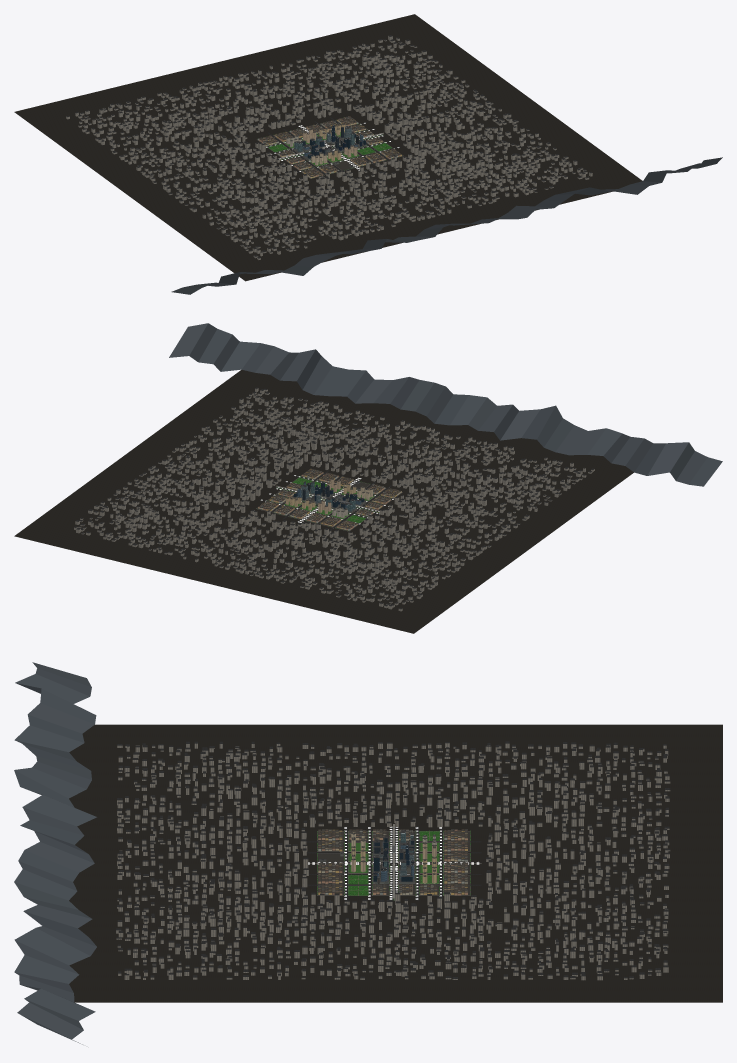
Rendered from aether-city.glb.
3 views of the same model, one above another, from view 1: azimuth 30°, elevation 25°; view 2: azimuth 150°, elevation 25°; view 3: azimuth 270°, elevation 25° (orthographic). The views are drawn at different scales.
Visible parts, largest first — view 1: city_ground, city_far, city_roof, city_hills, city_lowrise, city_resi, city_asphalt, city_foliage, city_office, city_glass; view 2: city_ground, city_far, city_hills, city_roof, city_lowrise, city_resi, city_foliage, city_asphalt, city_office; view 3: city_ground, city_far, city_roof, city_hills, city_asphalt, city_foliage, city_lowrise, fx_lightpool, city_resi, city_office.
Part boxes in pixels (x1,y1,x2,y2): city_ground: [14, 14, 642, 281]; city_far: [66, 36, 592, 259]; city_roof: [66, 35, 592, 258]; city_hills: [171, 157, 722, 294]; city_lowrise: [258, 116, 401, 178]; city_resi: [286, 124, 357, 165]; city_asphalt: [265, 117, 400, 175]; city_foliage: [265, 117, 399, 176]; city_office: [293, 126, 366, 167]; city_glass: [301, 125, 366, 158]; city_ground: [14, 369, 633, 633]; city_far: [74, 388, 594, 611]; city_hills: [169, 323, 722, 486]; city_roof: [74, 387, 594, 609]; city_lowrise: [258, 469, 401, 530]; city_resi: [285, 479, 372, 518]; city_foliage: [262, 476, 387, 530]; city_asphalt: [259, 470, 394, 530]; city_office: [292, 482, 365, 512]; city_ground: [69, 724, 722, 1002]; city_far: [116, 743, 670, 980]; city_roof: [116, 741, 670, 978]; city_hills: [14, 662, 96, 1044]; city_asphalt: [306, 826, 481, 900]; city_foliage: [317, 830, 470, 900]; city_lowrise: [318, 830, 467, 895]; fx_lightpool: [308, 827, 479, 899]; city_resi: [351, 834, 436, 883]; city_office: [319, 833, 414, 883].
Size of the model in its own units: 4800 by 373 by 3880.
Materials: 22 (8 with a texture image).
